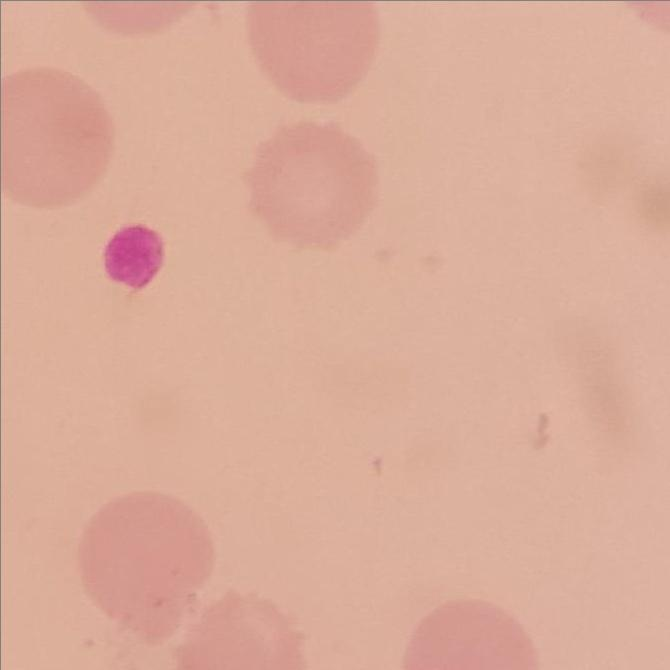Uninfected: (71, 490, 218, 640), (0, 67, 112, 207), (249, 126, 374, 248), (242, 0, 376, 102)
